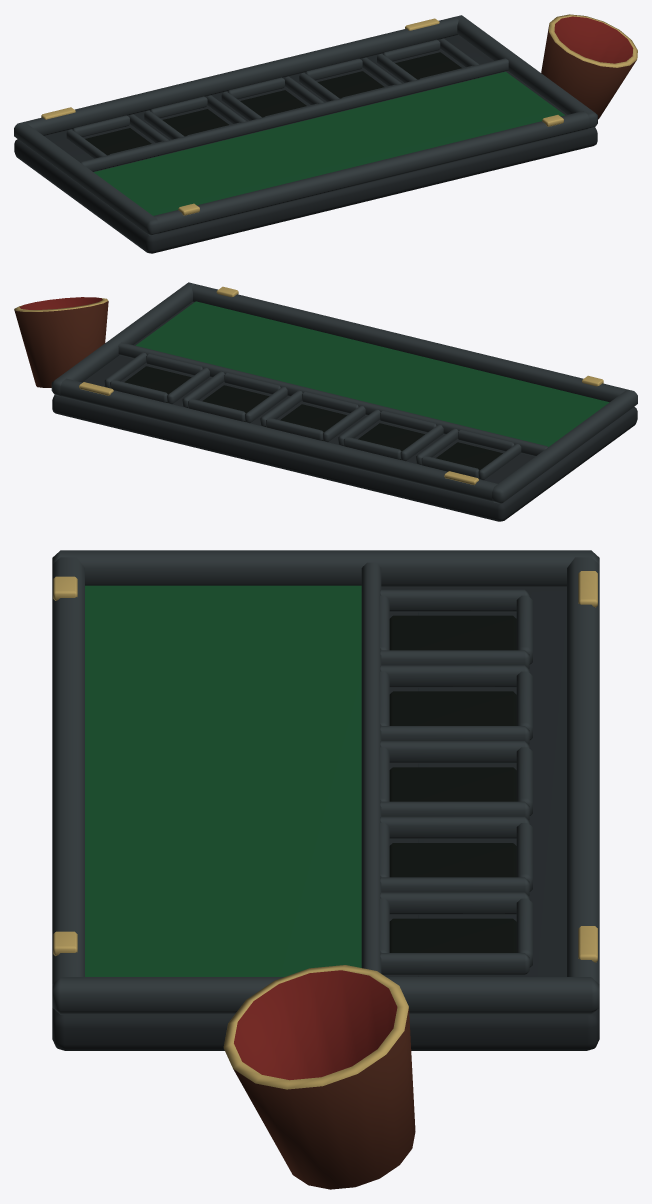
Rendered from yacht-case-v2.glb.
3 views of the same model, one above another, from view 1: azimuth 30°, elevation 25°; view 2: azimuth 150°, elevation 25°; view 3: azimuth 270°, elevation 25° (orthographic). The views are drawn at different scales.
Visible parts, largest first — view 1: YachtCaseWithHollowCup; view 2: YachtCaseWithHollowCup; view 3: YachtCaseWithHollowCup.
Boxes of the visible parts, left/top/right/bottom form: YachtCaseWithHollowCup: left=14, top=14, right=637, bottom=253; YachtCaseWithHollowCup: left=14, top=282, right=637, bottom=521; YachtCaseWithHollowCup: left=52, top=550, right=599, bottom=1189.
Size of the model in its own units: 18.59 by 2.94 by 8.
